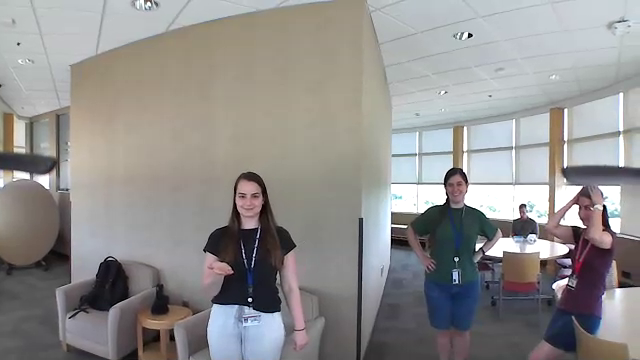land: (201, 254, 236, 277)
